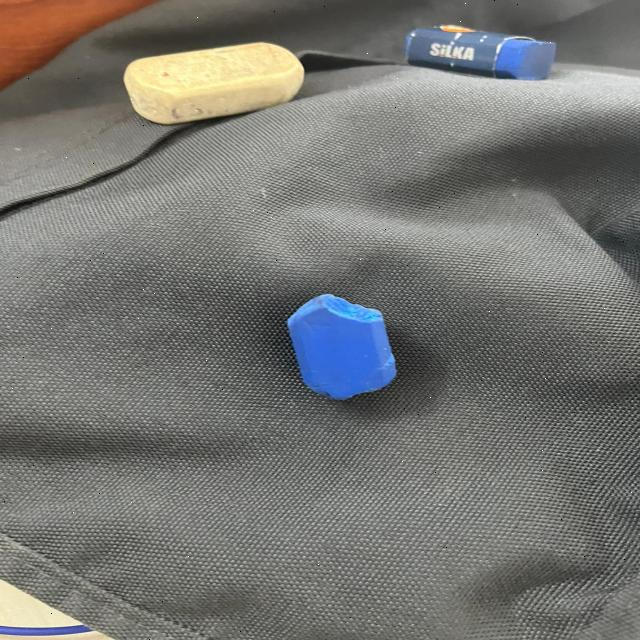eraser: (274, 266, 426, 404), (111, 38, 310, 123), (394, 15, 565, 95)
